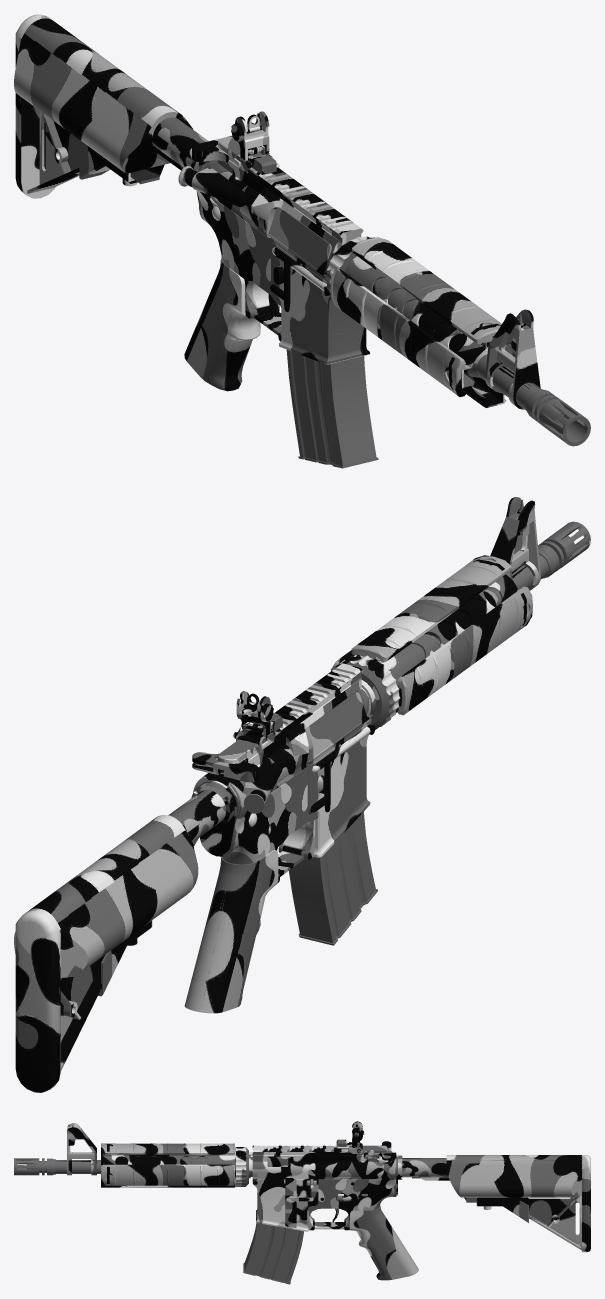
3 renders of one model, top to bottom at view 1: azimuth 30°, elevation 25°; view 2: azimuth 150°, elevation 25°; view 3: azimuth 270°, elevation 25°, orthographic. The views are drawn at different scales.
Visible parts, largest first — view 1: Default_2, Default_1; view 2: Default_2, Default_1; view 3: Default_2, Default_1.
Part boxes in pixels (x1,y1,x2,y2): Default_2: (14, 14, 590, 446); Default_1: (286, 350, 378, 468); Default_2: (14, 497, 590, 1092); Default_1: (289, 812, 377, 945); Default_2: (14, 1121, 590, 1280); Default_1: (243, 1223, 303, 1284).
Bounding box in the file's own units: 3.06 × 10.49 × 35.32.
2 materials, 1 textured.
